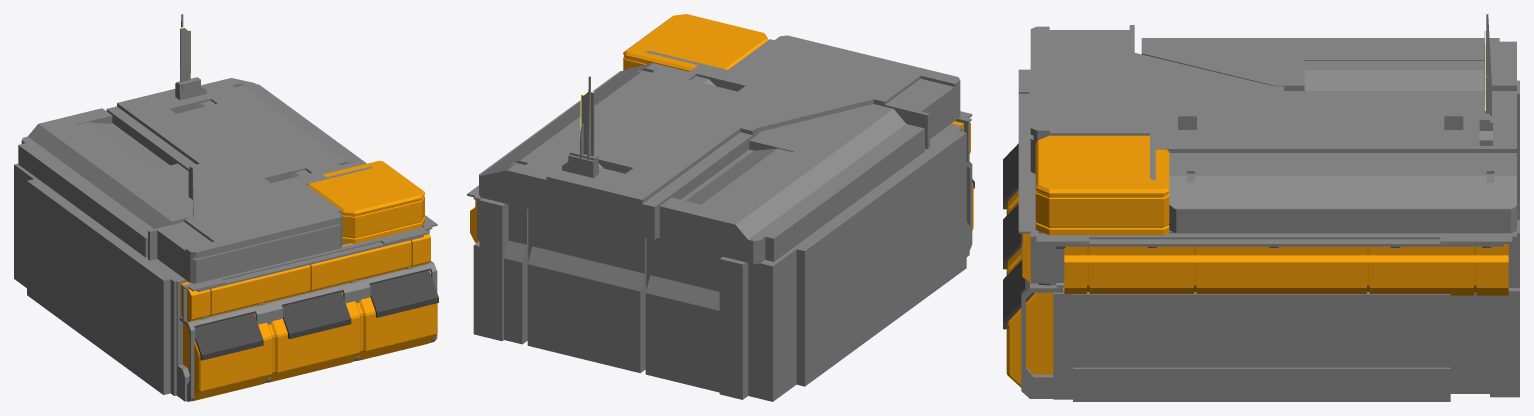
The model's file is Module_Building_Top_A.fbx.
3 renders of one model, left to right at view 1: azimuth 30°, elevation 25°; view 2: azimuth 150°, elevation 25°; view 3: azimuth 270°, elevation 25°, orthographic. The views are drawn at different scales.
Visible parts, largest first — view 1: FloorModule_A_Top, Glass_Orange, FloorModule_A_Base, FloorModule_A_Shutter, FloorModule_A_Frame, FloorModule_A_WindowB; view 2: FloorModule_A_Base, FloorModule_A_Top, Glass_Orange, FloorModule_A_Frame; view 3: FloorModule_A_Top, FloorModule_A_Base, Glass_Orange, FloorModule_A_WindowA, FloorModule_A_Shutter, FloorModule_A_WindowB, FloorModule_A_Frame.
Boxes of the visible parts, box(x1,y1,x2,y2) form: FloorModule_A_Top: box(18, 14, 372, 283); Glass_Orange: box(180, 160, 437, 401); FloorModule_A_Base: box(14, 163, 350, 401); FloorModule_A_Shutter: box(195, 270, 438, 360); FloorModule_A_Frame: box(179, 261, 437, 401); FloorModule_A_WindowB: box(182, 226, 428, 321); FloorModule_A_Base: box(473, 123, 969, 401); FloorModule_A_Top: box(479, 35, 960, 263); Glass_Orange: box(470, 14, 973, 242); FloorModule_A_Frame: box(966, 161, 972, 250); FloorModule_A_Top: box(1030, 14, 1516, 233); FloorModule_A_Base: box(1038, 80, 1519, 401); Glass_Orange: box(1006, 135, 1508, 387); FloorModule_A_WindowA: box(1030, 233, 1516, 287); FloorModule_A_Shutter: box(1003, 143, 1050, 329); FloorModule_A_WindowB: box(1018, 69, 1038, 233); FloorModule_A_Frame: box(1021, 233, 1063, 398).
Bounding box in the file's own units: 12030 × 10109 × 14553.
